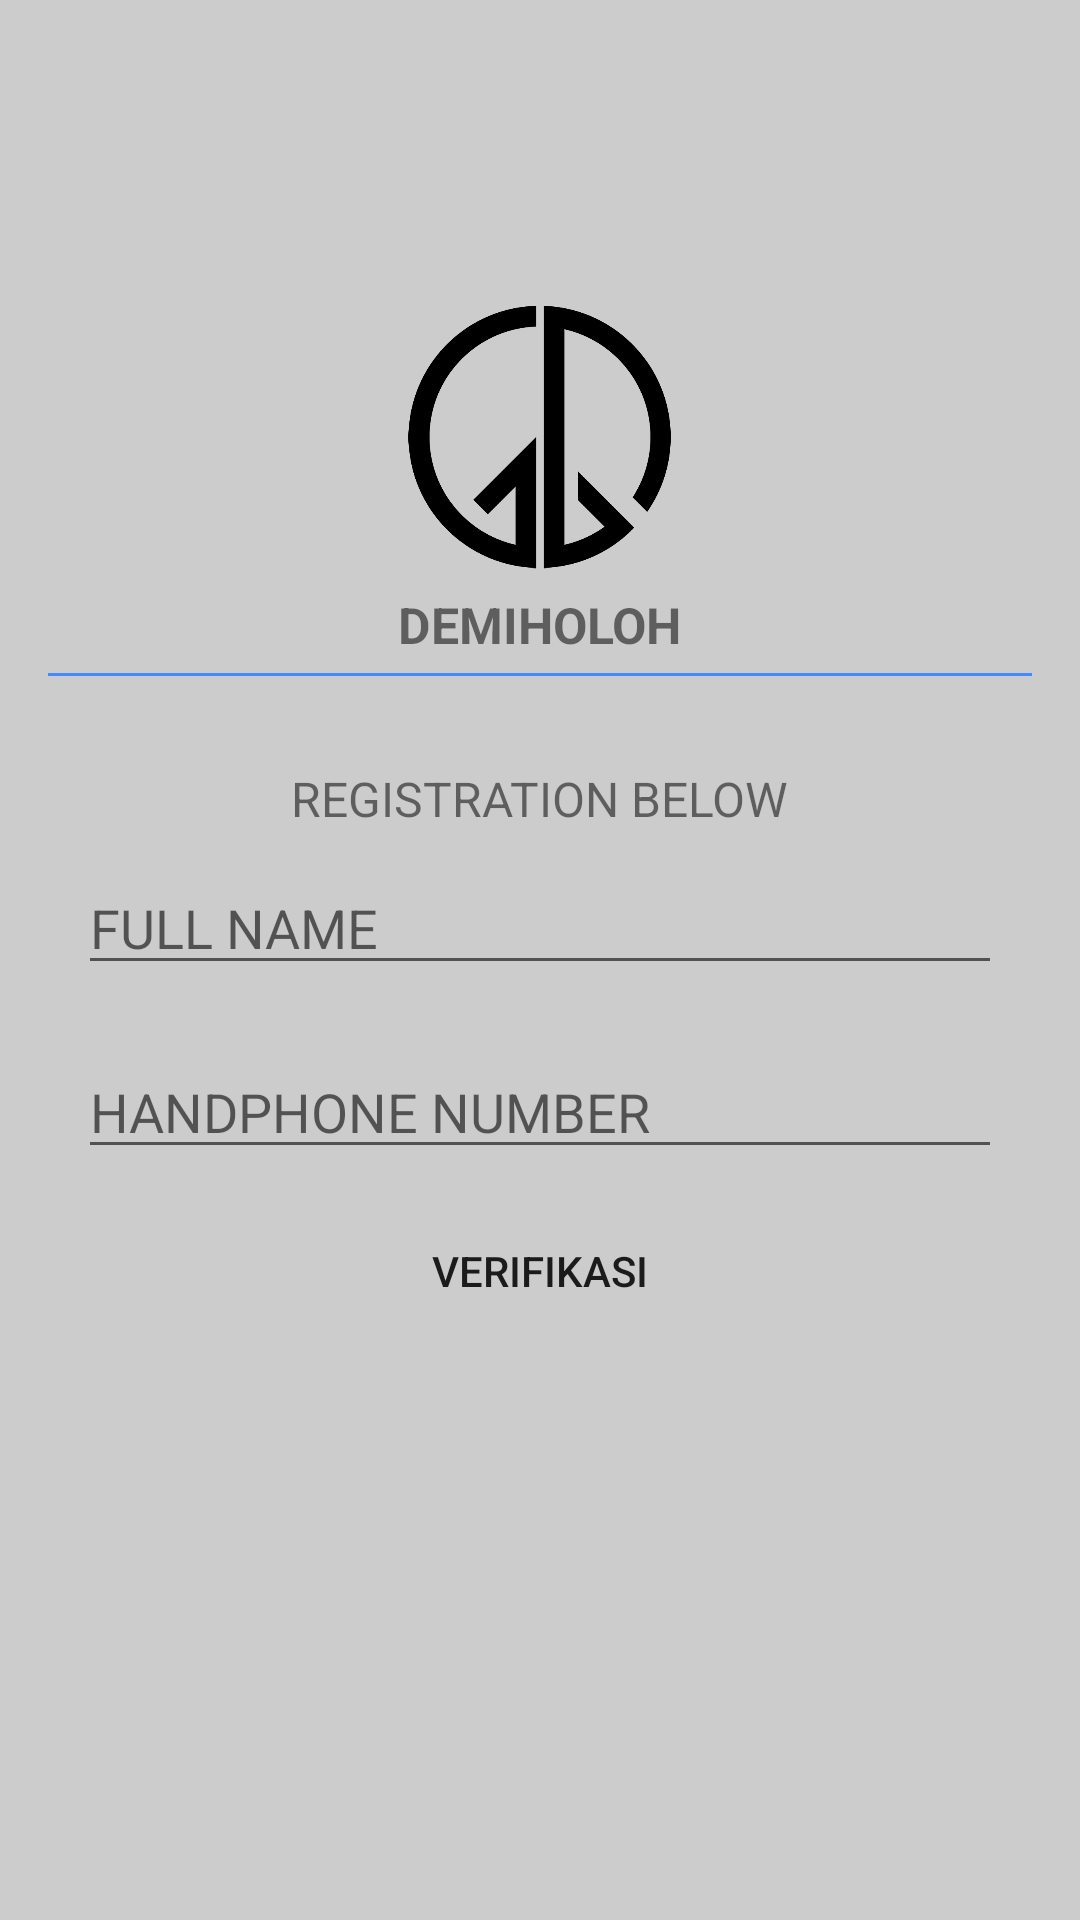

Icons on this 1080 × 1920 Android screen, each with the point to tap as [x,y]:
lovenpeace: [539,437]
